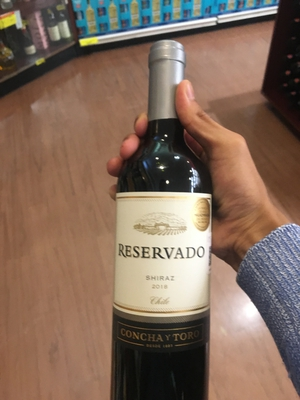reservado shiraz: (110, 46, 218, 400)
